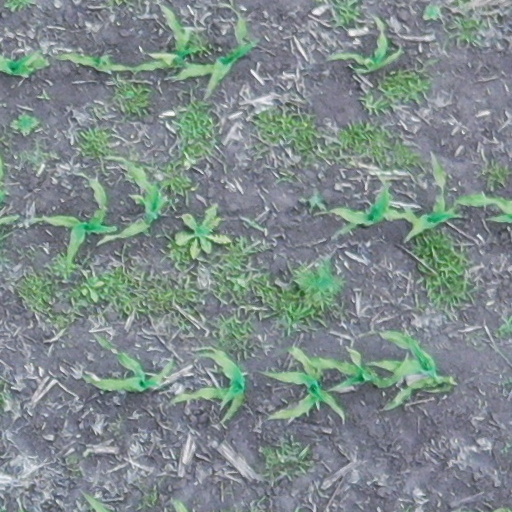planta: (39, 175, 119, 276), (94, 152, 174, 247), (332, 327, 446, 393), (175, 14, 260, 93), (266, 342, 346, 422), (401, 148, 459, 240), (131, 3, 202, 74), (171, 347, 250, 408), (329, 171, 408, 228), (328, 14, 404, 72), (93, 350, 176, 394), (58, 51, 138, 75), (402, 215, 409, 222)
